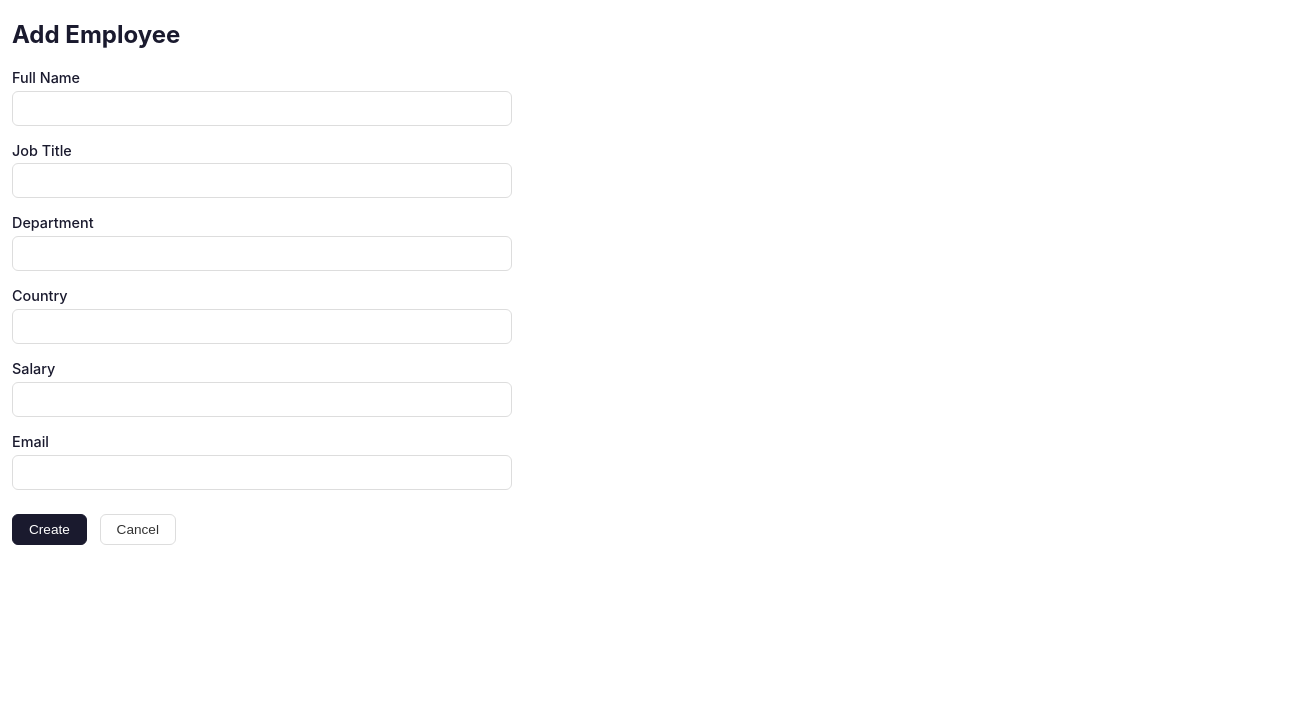
Test: EmployeeFormPage › Create mode › shows validation error array from API
Type "X" into the field labelled "Full Name".
click(262, 108); type("X")  # box [12, 91, 512, 126]
Type "Y" into the field labelled "Job Title".
click(262, 181); type("Y")  # box [12, 163, 512, 198]
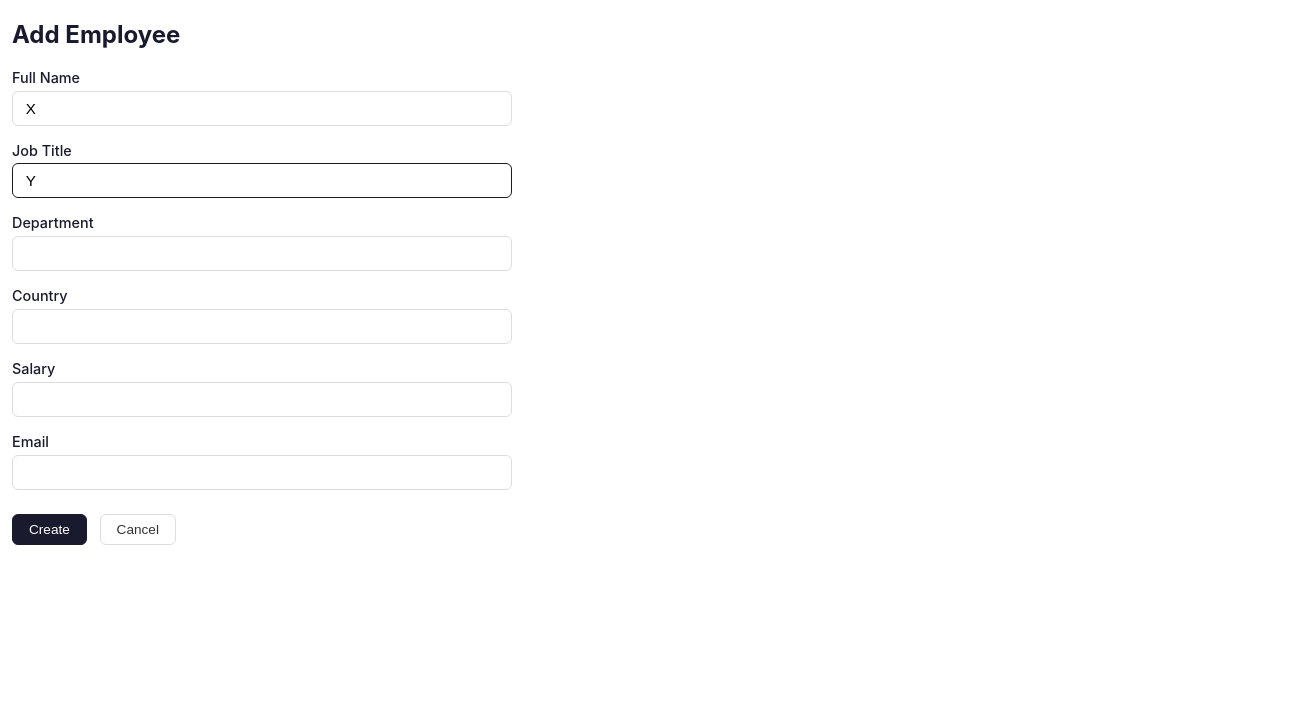
Type "Z" into the field labelled "Department".
click(262, 254); type("Z")  # box [12, 236, 512, 271]
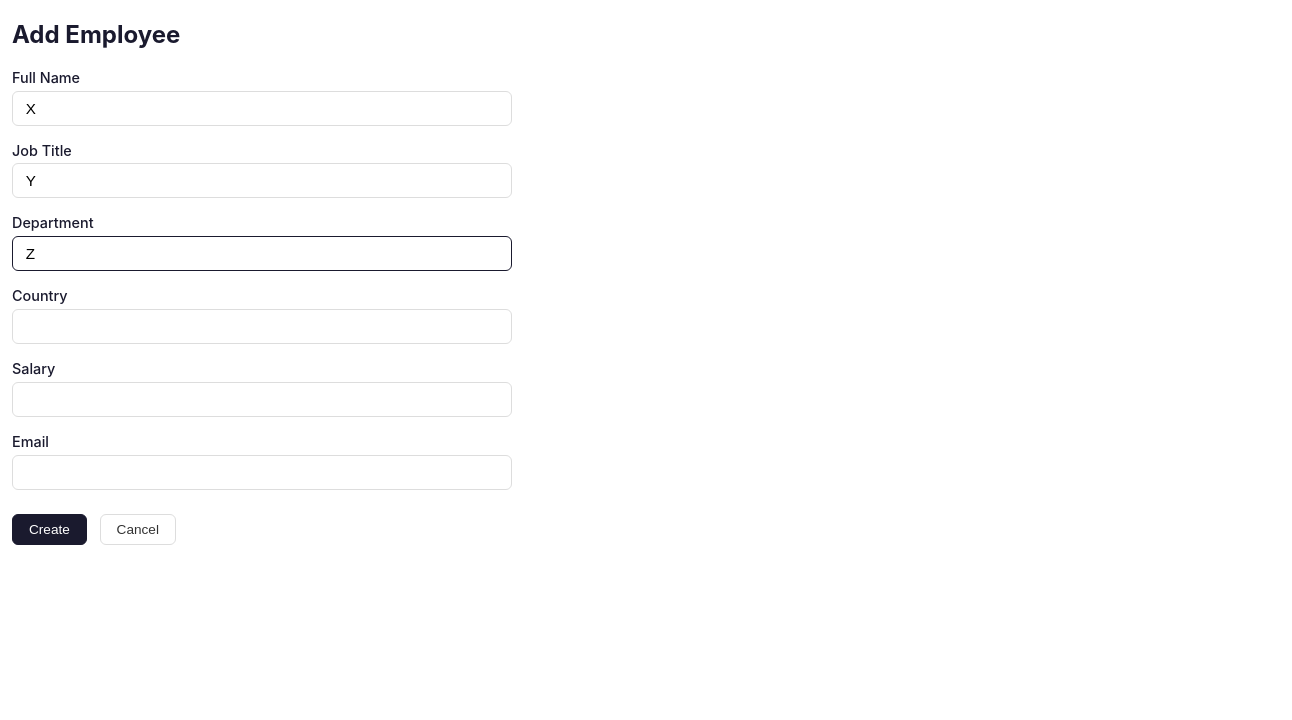
Type "W" into the field labelled "Country".
click(262, 326); type("W")  # box [12, 309, 512, 344]
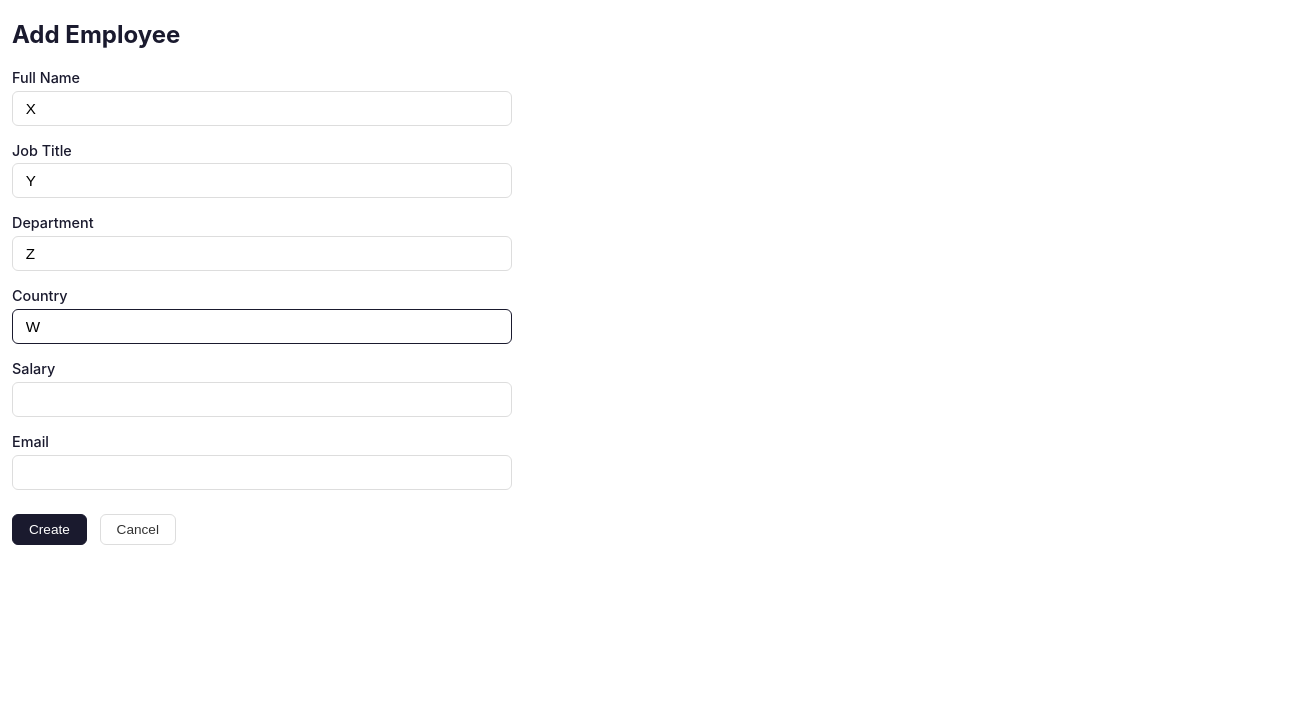
Type "1" into the number field labelled "Salary".
click(262, 399); type("1")  # box [12, 382, 512, 417]
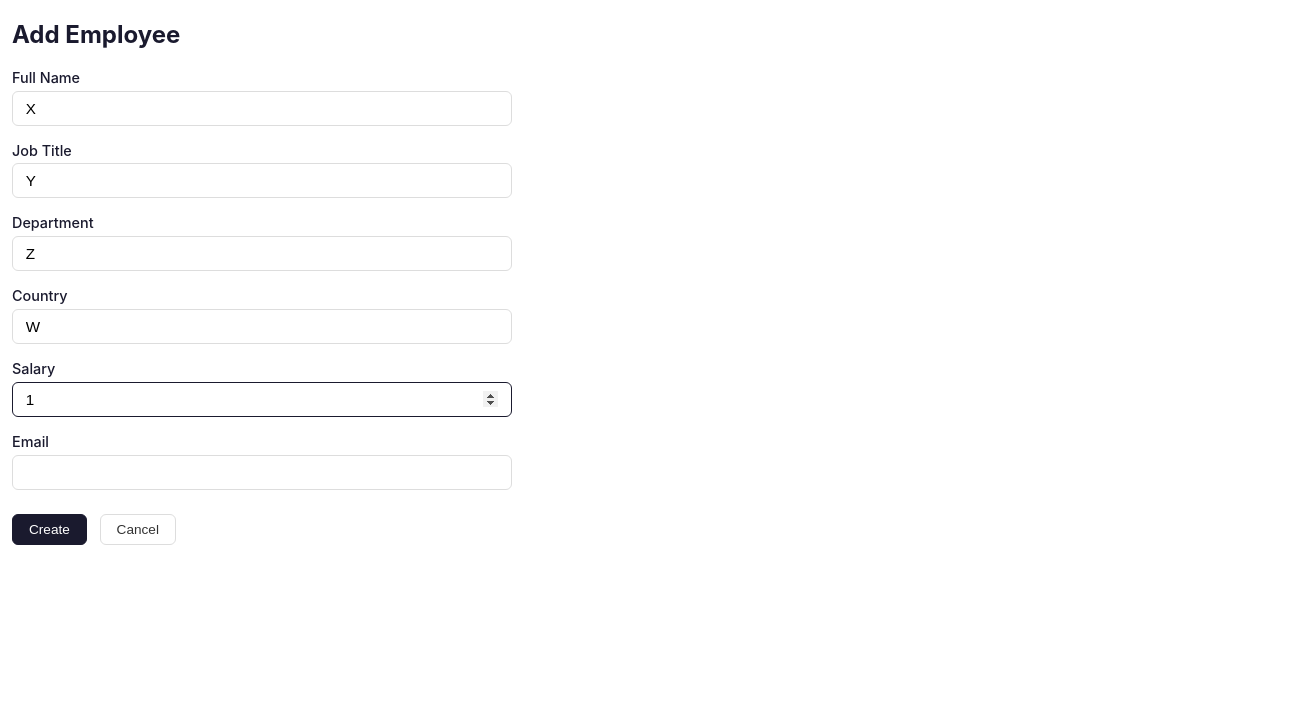
Type "x@y.com" into the field labelled "Email".
click(262, 472); type("x@y.com")  # box [12, 455, 512, 490]
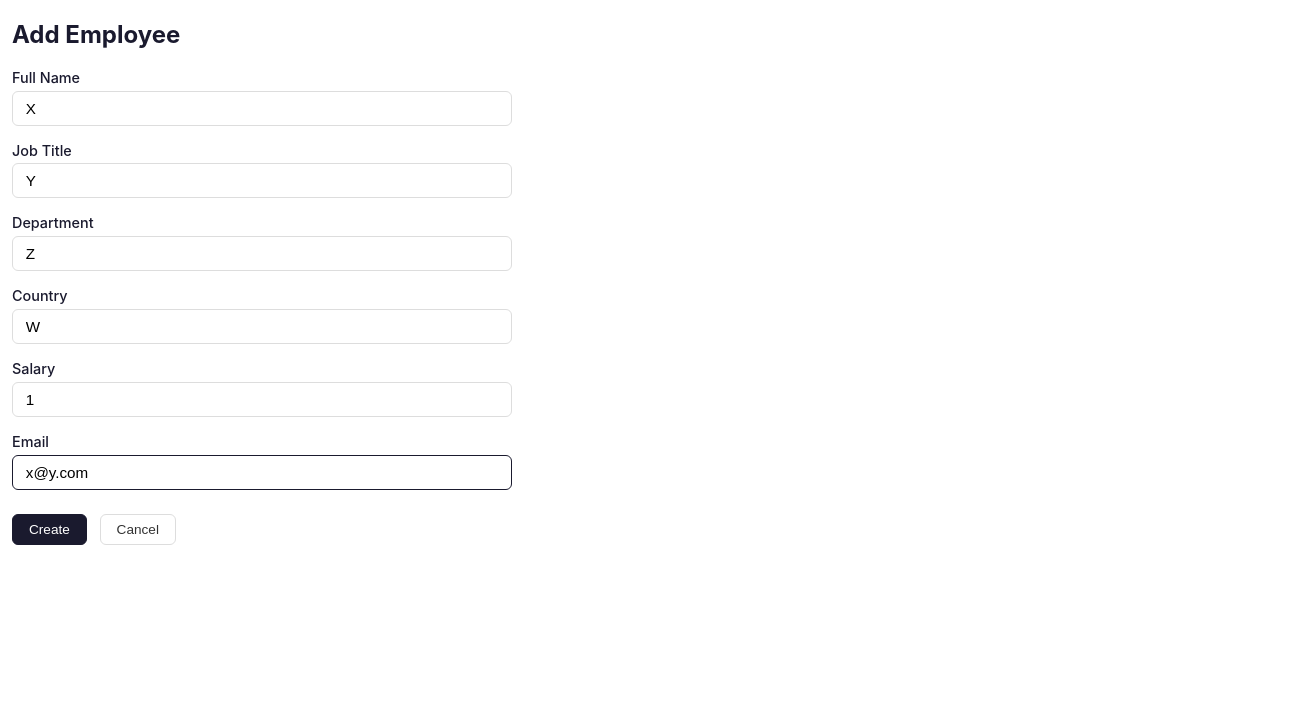
Click the button "Create".
click(49, 529)  # box [12, 514, 87, 545]
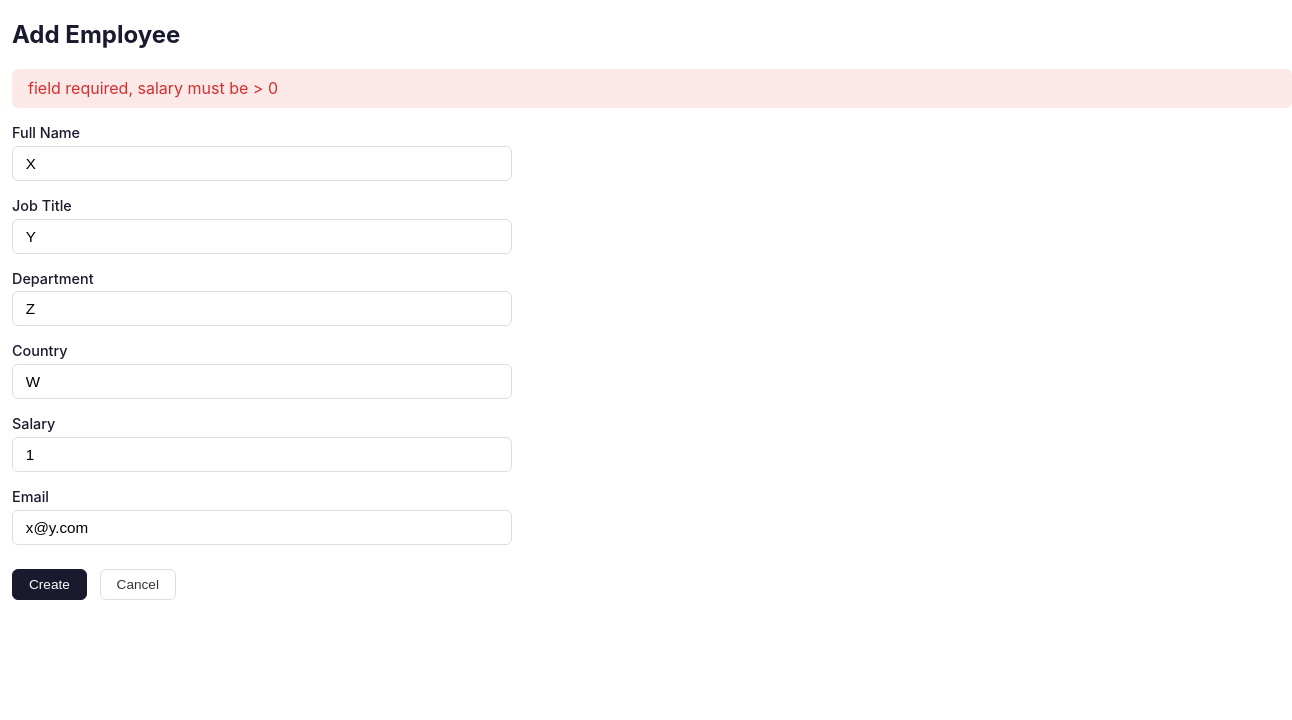
Expected: the text "field required, salary must be > 0" is shown, [12, 69, 1291, 108]
